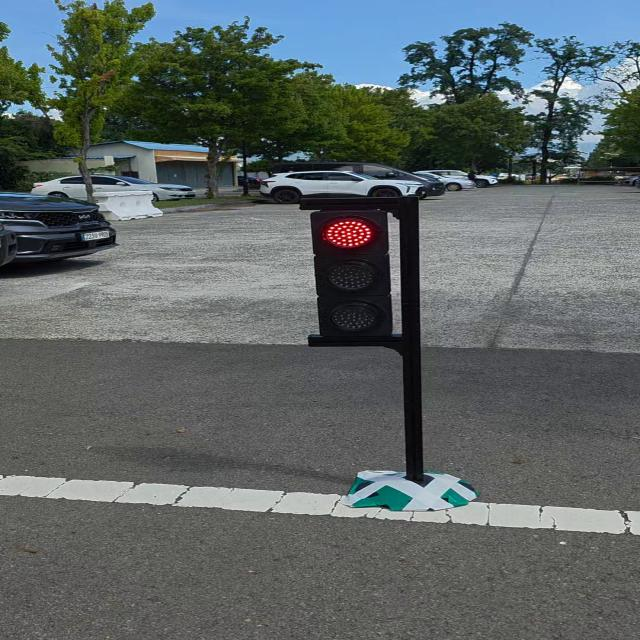red: (296, 204, 407, 340)
